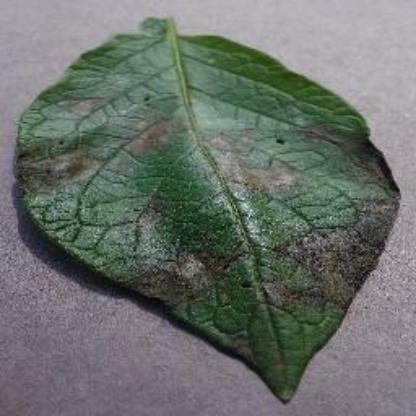Late-Blight: (15, 13, 404, 406)
